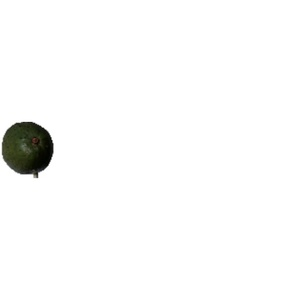abacate: (1, 120, 55, 175)
